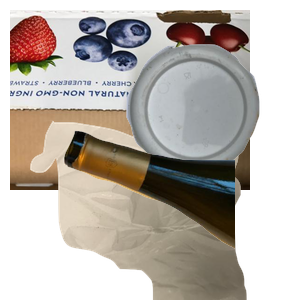cardboard: (10, 10, 250, 190)
glass: (60, 128, 300, 300)
plastic: (124, 42, 300, 210)
trash: (28, 120, 267, 300)
